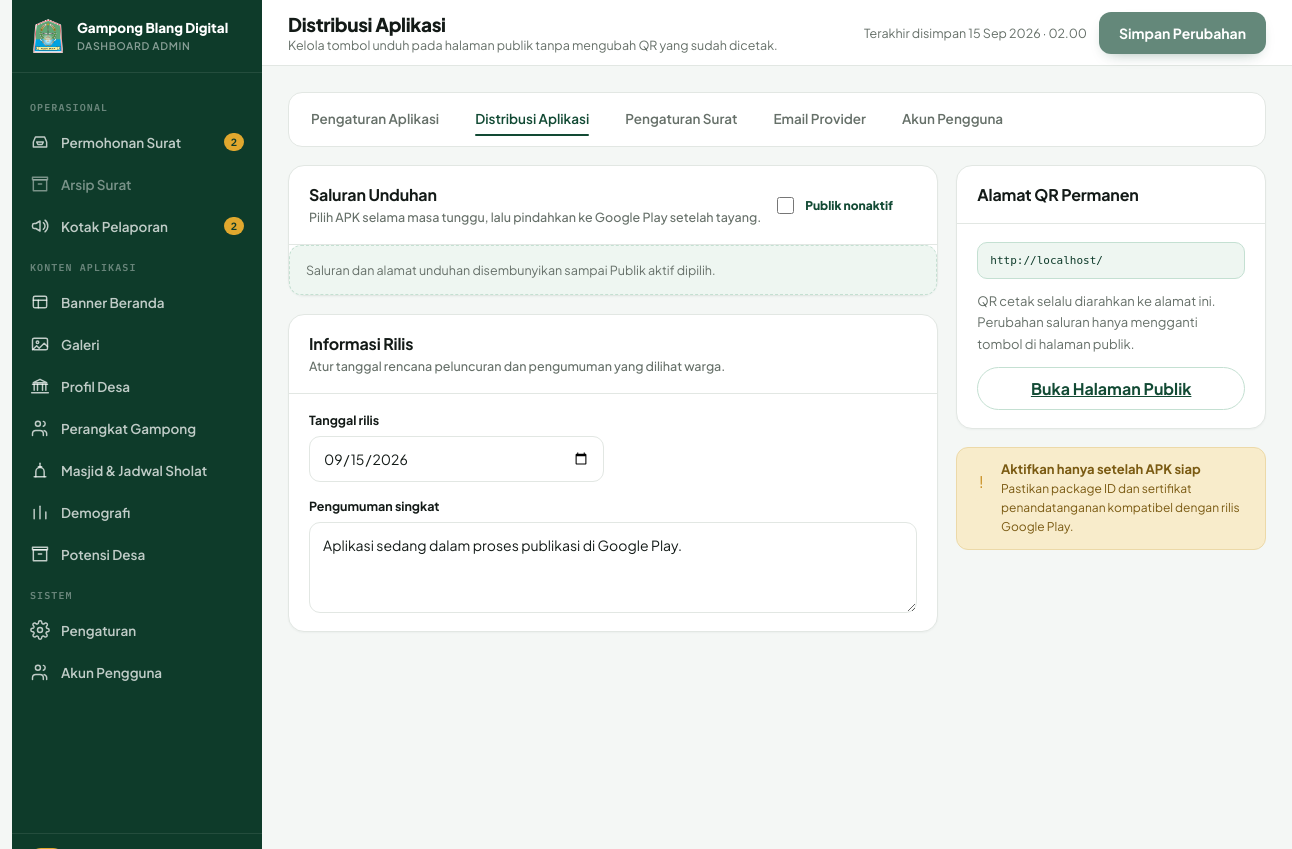
Test: app distribution dashboard › shows direct APK metadata as automatic read-only fields
Expected: the heading "Distribusi Aplikasi" is shown, x1=288 y1=12 x2=446 y2=36
Expected: the text "Unduh APK langsung" is not shown
Click the checkbox labelled "Publik nonaktif": (786,205) x1=777 y1=196 x2=794 y2=214
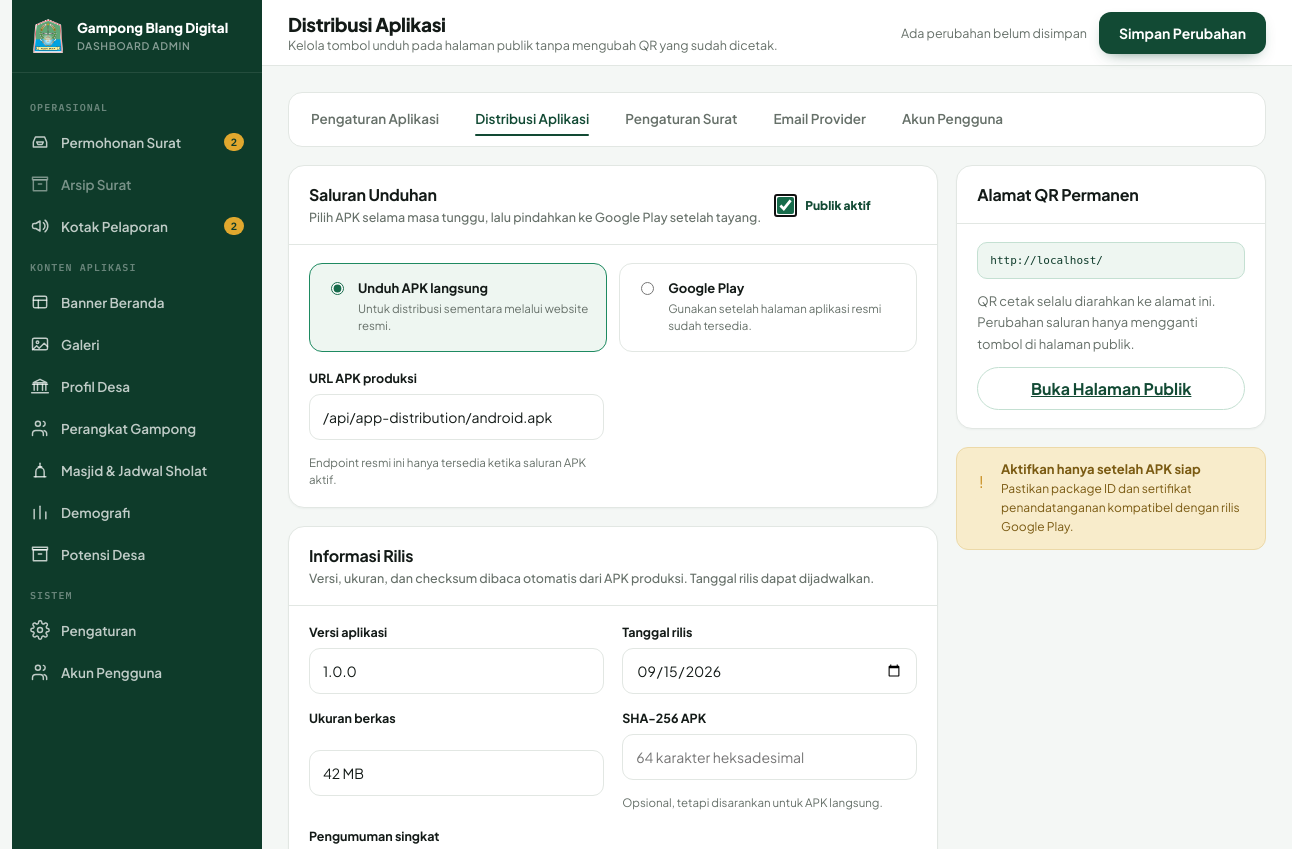
Expected: the text "tanggal rilis dapat dijadwalkan" is shown, x1=309 y1=570 x2=874 y2=586
Expected: the field labelled "Versi aplikasi" is disabled, x1=309 y1=648 x2=604 y2=694
Expected: the field labelled "Ukuran berkas" is disabled, x1=309 y1=750 x2=604 y2=796
